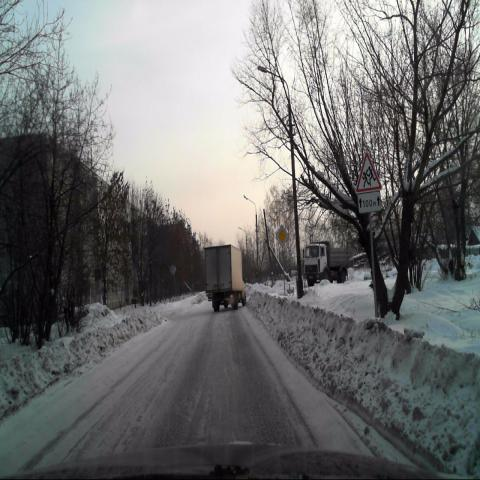1_23: (356, 152, 380, 193)
2_1: (276, 225, 288, 247)
8_2_1: (358, 192, 380, 212)
